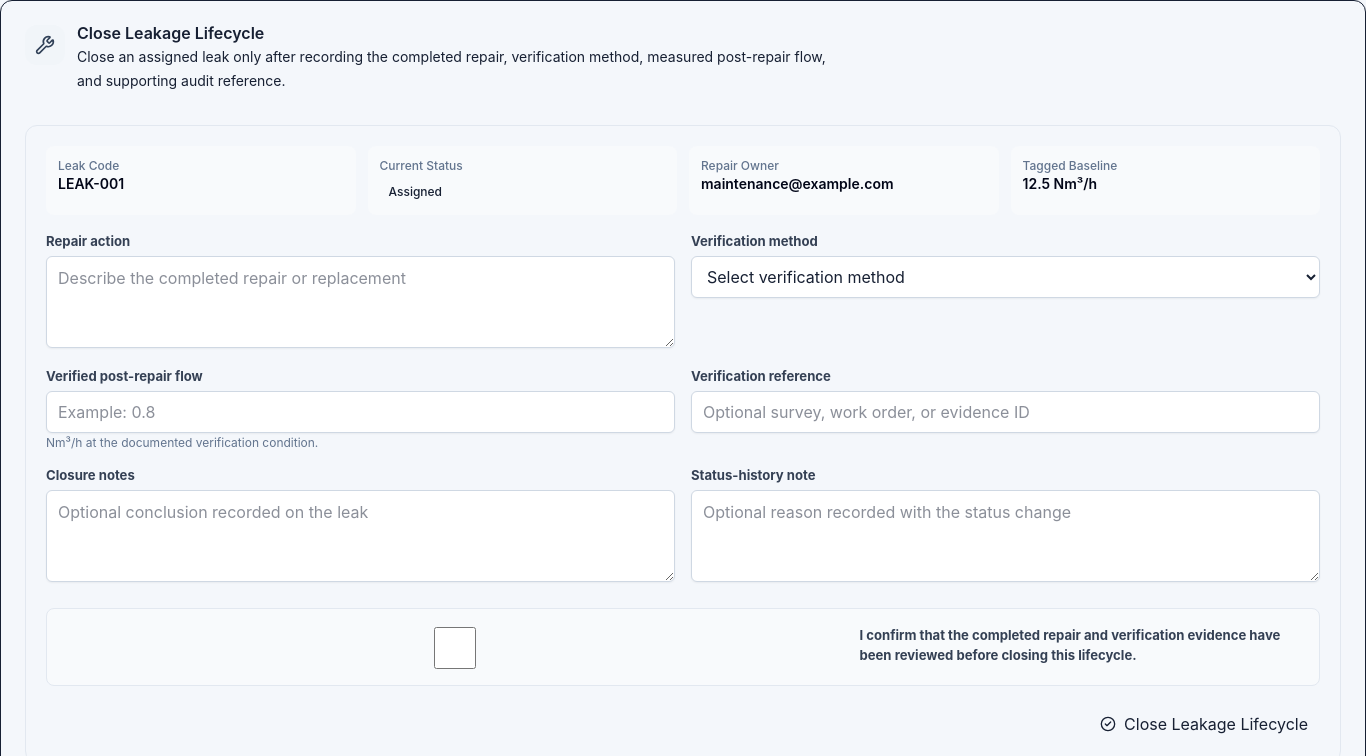
it: LeakageLifecycleClosureSection › requires repair, verification, flow, and evidence confirmation
Click the button "Close Leakage Lifecycle". click: (1204, 724)
box: [1088, 706, 1320, 742]
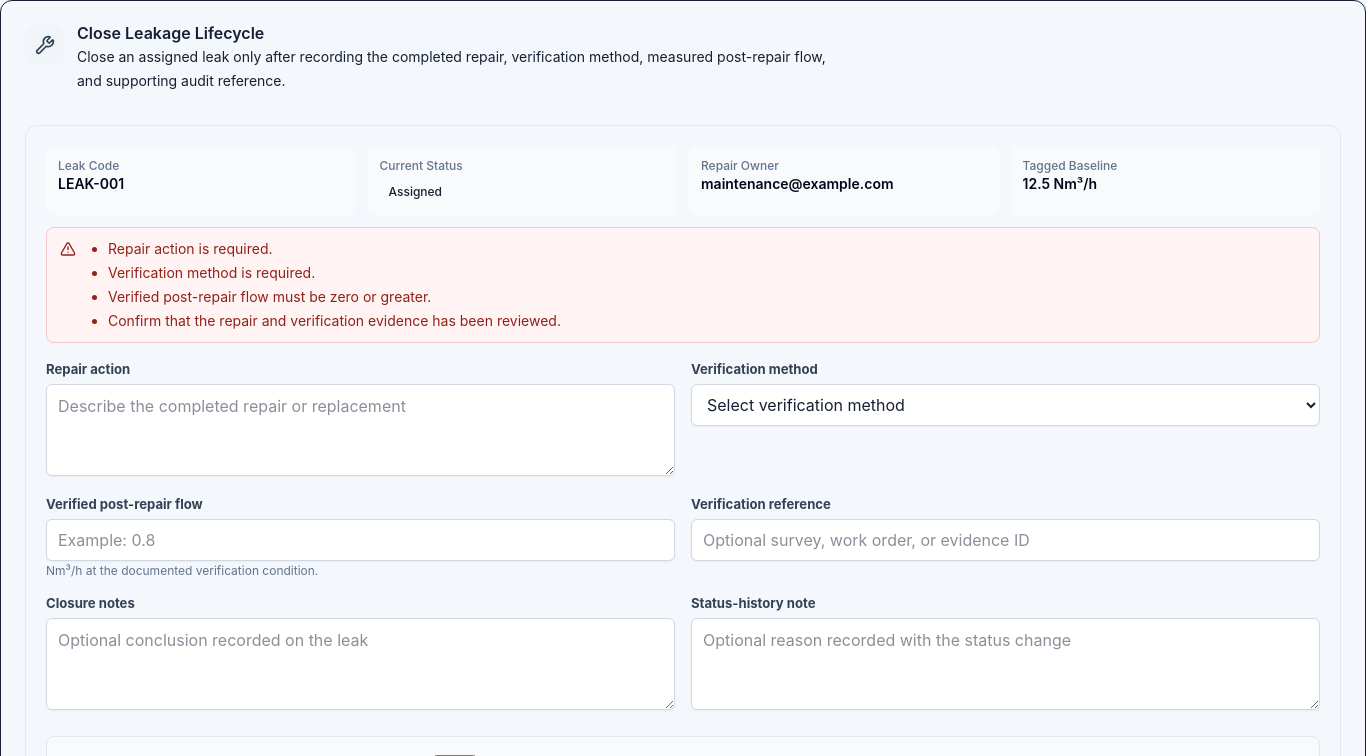
Check: the message shows "Repair action is required.", box [108, 240, 272, 257]
Check: the message shows "Verification method is required.", box [108, 264, 315, 281]
Check: the message shows "Verified post-repair flow must be zero or greater.", box [108, 288, 431, 305]
